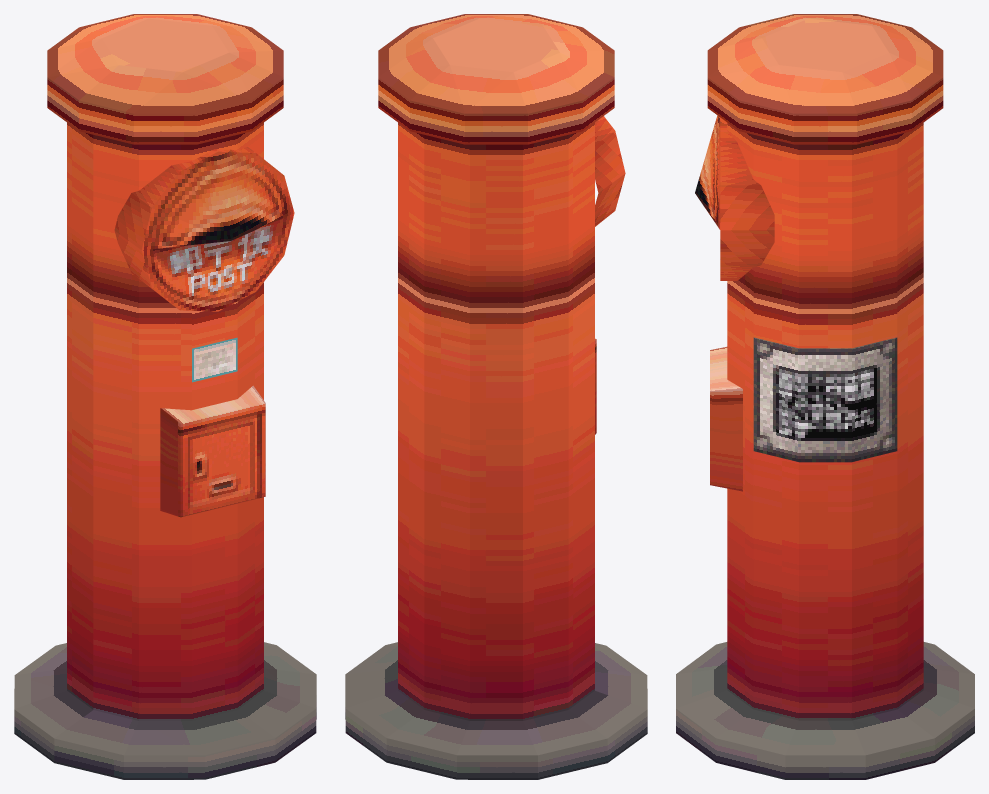
The model's file is ps2_save-icons_northwind.glb.
3 views of the same model, side by side, from view 1: azimuth 30°, elevation 25°; view 2: azimuth 150°, elevation 25°; view 3: azimuth 270°, elevation 25° (orthographic).
Parts seen in each view (by area): view 1: icon.ico; view 2: icon.ico; view 3: icon.ico.
Boxes of the visible parts, x1=… form: icon.ico: x1=14, y1=14, x2=316, y2=779; icon.ico: x1=345, y1=14, x2=647, y2=779; icon.ico: x1=676, y1=14, x2=974, y2=779.
Size of the model in its own units: 1.78 by 4.36 by 1.76.
Materials: 1 (1 with a texture image).
